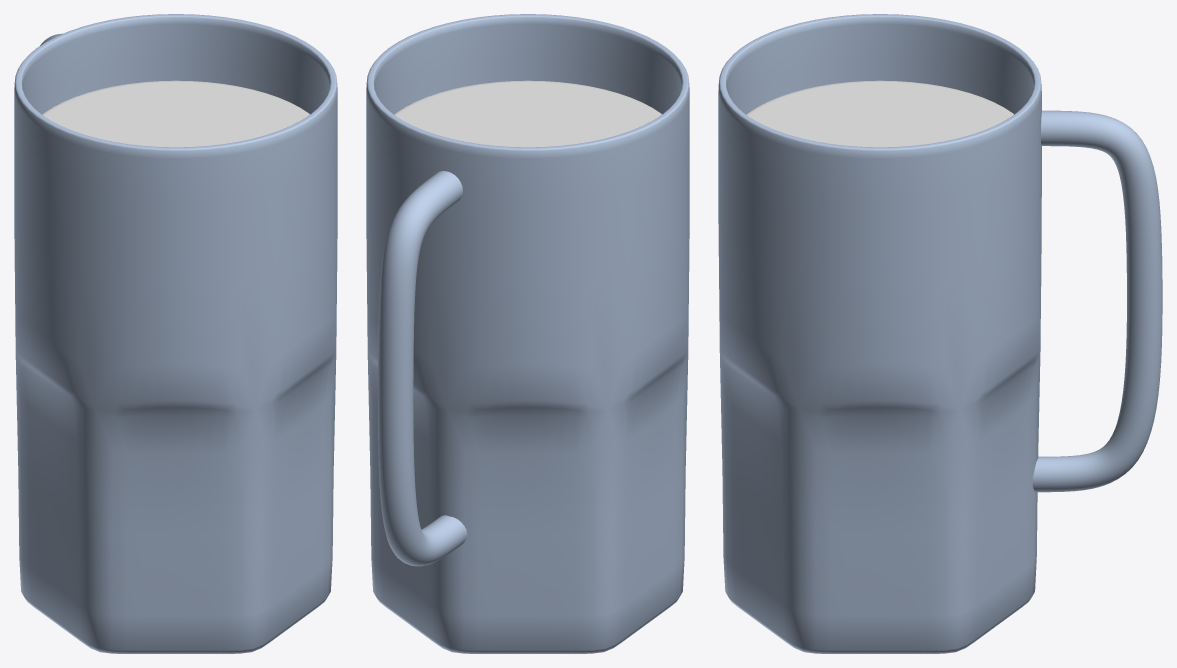
The model's file is Beer Renormalized.fbx.
The picture shows the model from 3 angles, left to right: view 1: azimuth 30°, elevation 25°; view 2: azimuth 150°, elevation 25°; view 3: azimuth 270°, elevation 25°; orthographic projection.
Parts seen in each view (by area): view 1: Cylinder.002, Cylinder.008; view 2: Cylinder.002, Cylinder.008; view 3: Cylinder.002, Cylinder.008.
Boxes of the visible parts, <box> form: Cylinder.002: <box>14,14,337,653</box>; Cylinder.008: <box>42,80,309,147</box>; Cylinder.002: <box>366,14,689,653</box>; Cylinder.008: <box>394,80,661,147</box>; Cylinder.002: <box>718,14,1162,653</box>; Cylinder.008: <box>746,80,1013,147</box>.
Size of the model in its own units: 226 by 397 by 310.
